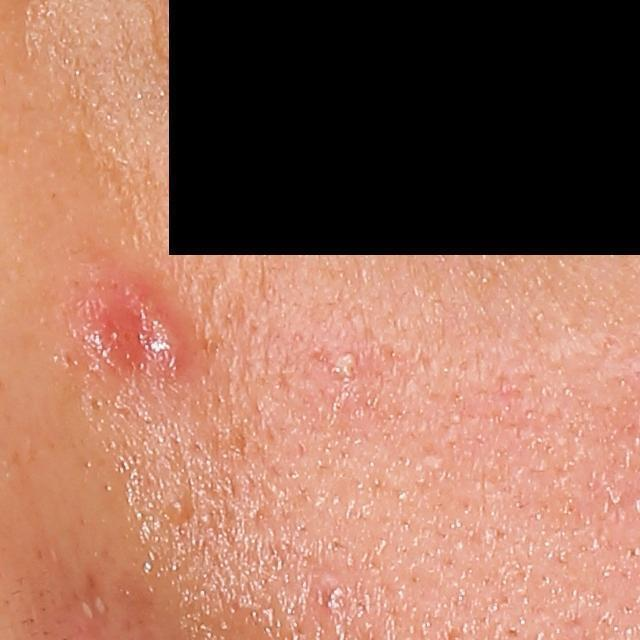comedo: (163, 500, 194, 531)
papule: (65, 271, 195, 384)
pustule: (332, 347, 363, 377)
